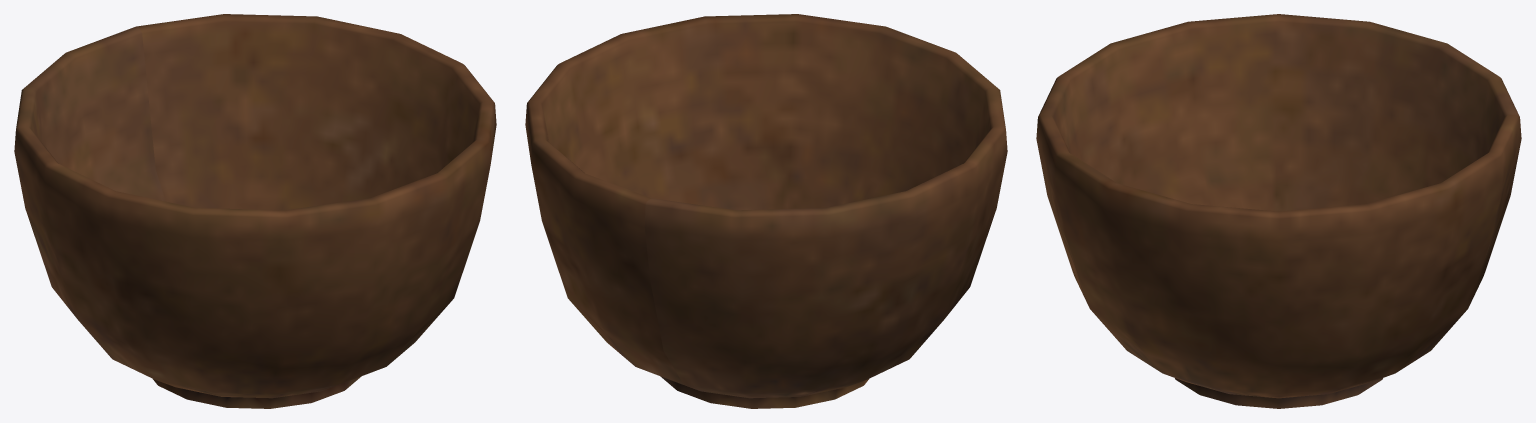
File: pottery04.FBX
3 views of the same model, side by side, from view 1: azimuth 30°, elevation 25°; view 2: azimuth 150°, elevation 25°; view 3: azimuth 270°, elevation 25° (orthographic).
Parts seen in each view (by area): view 1: SM_Pottery04; view 2: SM_Pottery04; view 3: SM_Pottery04.
Boxes of the visible parts, x1=… form: SM_Pottery04: x1=14, y1=14, x2=496, y2=408; SM_Pottery04: x1=525, y1=14, x2=1007, y2=408; SM_Pottery04: x1=1036, y1=14, x2=1521, y2=408.
Size of the model in its own units: 14.62 by 8.21 by 14.62.
Materials: 1 (1 with a texture image).
